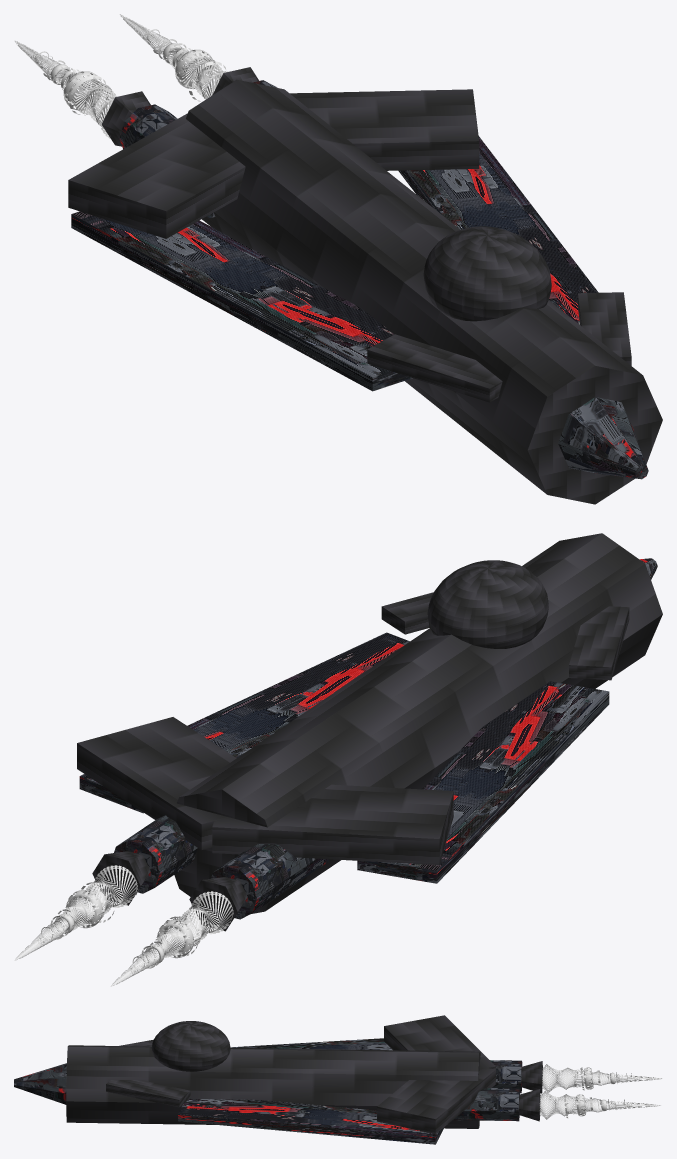
Rendered from naveAnimada-1.fbx.
The picture shows the model from 3 angles, top to bottom: view 1: azimuth 30°, elevation 25°; view 2: azimuth 150°, elevation 25°; view 3: azimuth 270°, elevation 25°; orthographic projection. The views are drawn at different scales.
Visible parts, largest first — view 1: Cube.002, propulsor1, propulsor2; view 2: Cube.002, propulsor1, propulsor2; view 3: Cube.002, propulsor1, propulsor2.
Boxes of the visible parts, x1,y1,x2,y2 form: Cube.002: (68, 67, 662, 504); propulsor1: (15, 40, 116, 138); propulsor2: (120, 14, 228, 101); Cube.002: (77, 533, 662, 931); propulsor1: (110, 891, 234, 986); propulsor2: (14, 865, 138, 960); Cube.002: (14, 1015, 542, 1144); propulsor1: (542, 1064, 662, 1092); propulsor2: (539, 1091, 660, 1119).
Size of the model in its own units: 982 by 434 by 2590.
6 materials, 4 textured.
